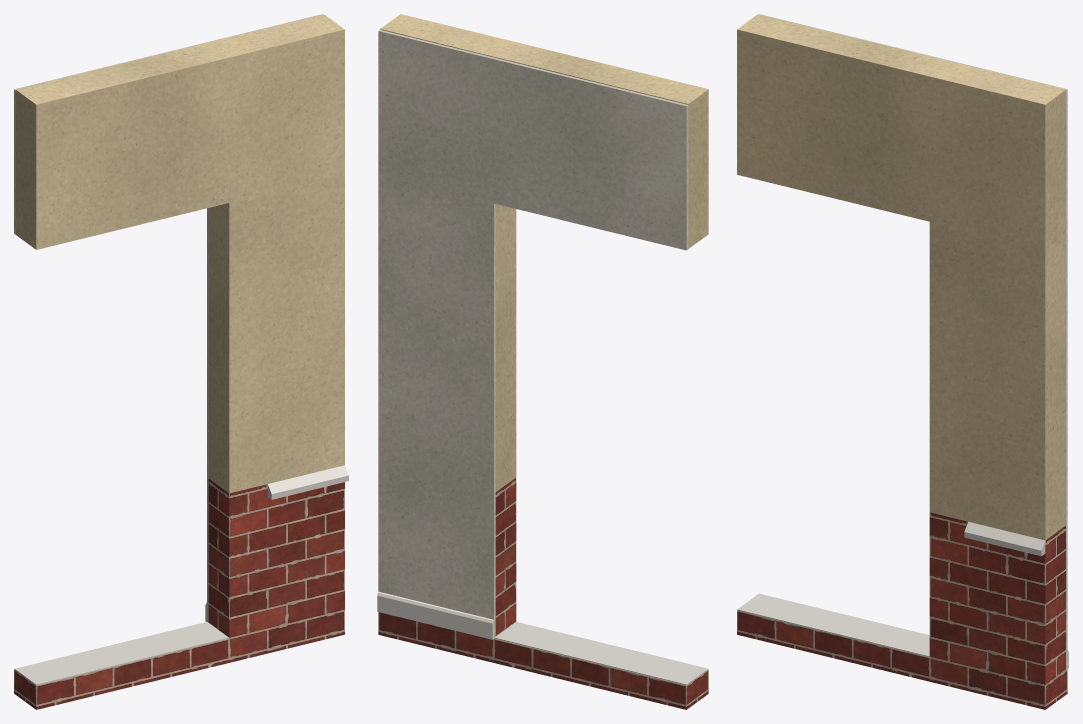
File: w_vest_r.glb
The picture shows the model from 3 angles, left to right: view 1: azimuth 30°, elevation 25°; view 2: azimuth 150°, elevation 25°; view 3: azimuth 330°, elevation 25°; orthographic projection.
Parts seen in each view (by area): view 1: w_vest_r_render, w_vest_r_brick, w_vest_r_cill, w_vest_r_plaster; view 2: w_vest_r_plaster, w_vest_r_render, w_vest_r_brick, w_vest_r_cill, w_vest_r_trim; view 3: w_vest_r_render, w_vest_r_brick, w_vest_r_cill, w_vest_r_plaster.
Part boxes in pixels (box(x1,y1,x2,y2)): w_vest_r_render: box(16, 14, 344, 493); w_vest_r_brick: box(14, 479, 344, 709); w_vest_r_cill: box(14, 465, 348, 685); w_vest_r_plaster: box(14, 14, 322, 622); w_vest_r_plaster: box(378, 30, 688, 638); w_vest_r_render: box(380, 14, 708, 491); w_vest_r_brick: box(378, 478, 708, 709); w_vest_r_cill: box(494, 621, 708, 685); w_vest_r_trim: box(377, 591, 493, 639); w_vest_r_render: box(737, 14, 1065, 540); w_vest_r_brick: box(737, 512, 1067, 709); w_vest_r_cill: box(737, 521, 1045, 657); w_vest_r_plaster: box(759, 14, 1067, 670).
Size of the model in its own units: 2 by 3.75 by 0.311.
Materials: 5 (3 with a texture image).
